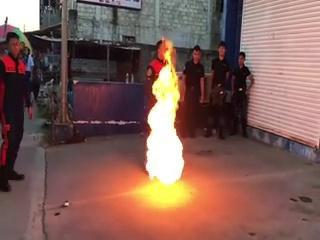Fire: (136, 69, 192, 187)
